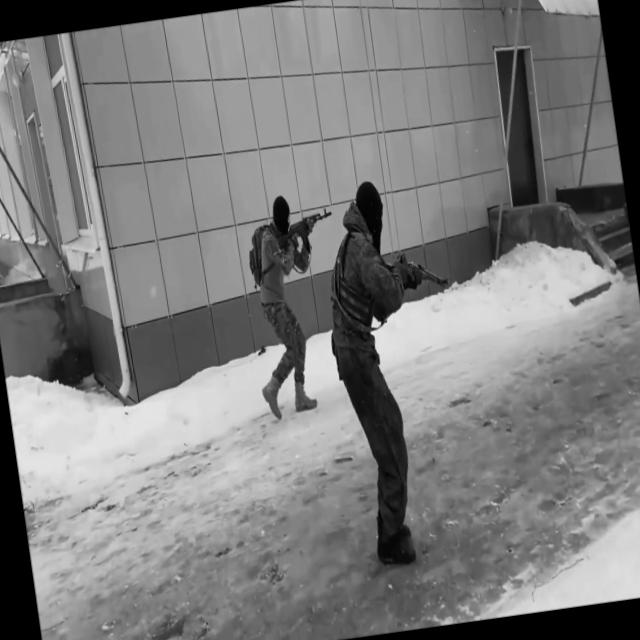gun: (378, 242, 451, 300), (275, 207, 339, 260), (393, 248, 417, 290)
person with a gun: (311, 170, 488, 572), (234, 186, 361, 425)
